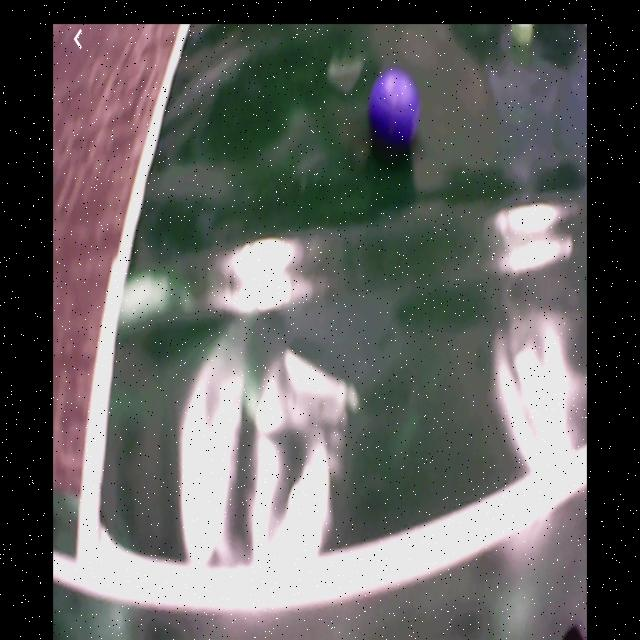ball: (370, 70, 420, 141)
